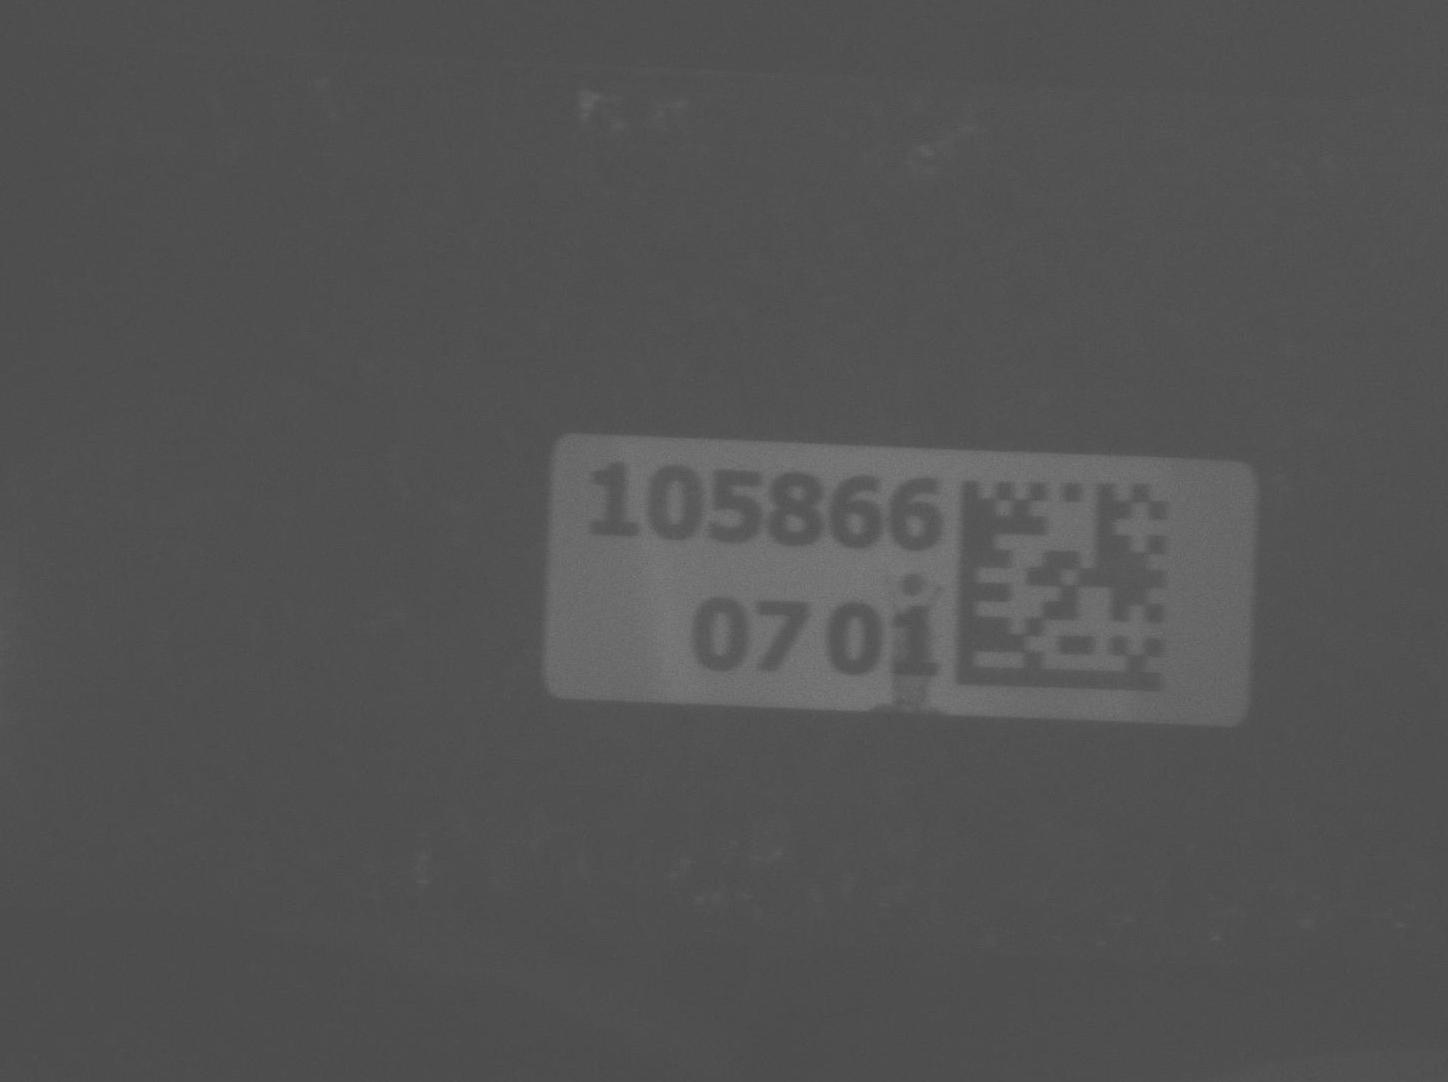data matrix: (939, 459, 1190, 718)
